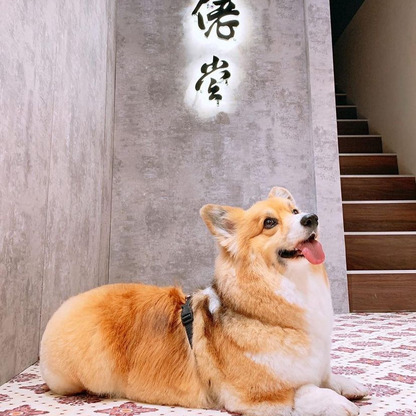Corgi: (34, 174, 396, 411)
